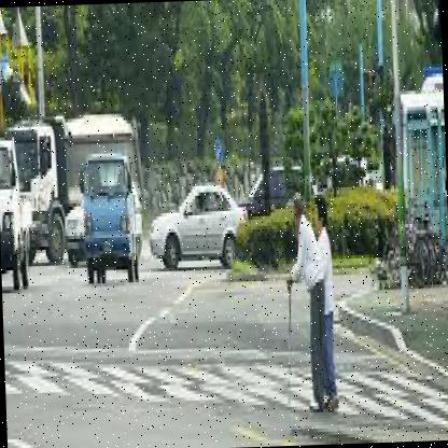silver: (276, 192, 327, 420), (315, 192, 337, 407)
